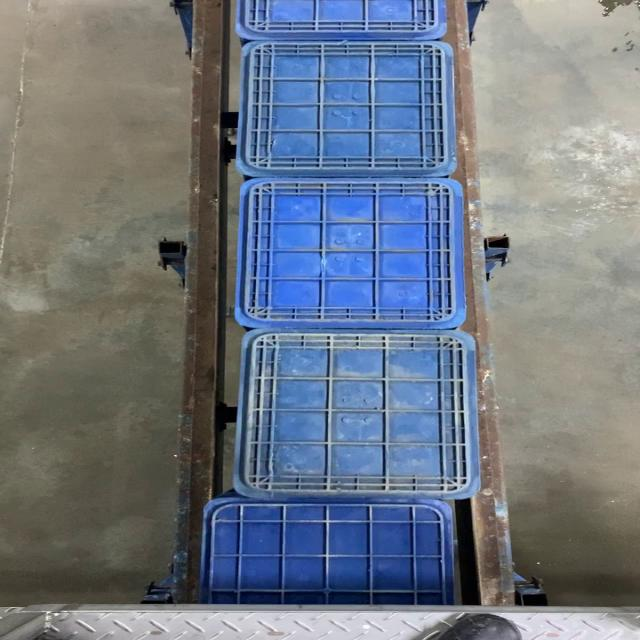Box: (234, 328, 482, 498), (234, 178, 466, 328), (234, 41, 460, 177)
